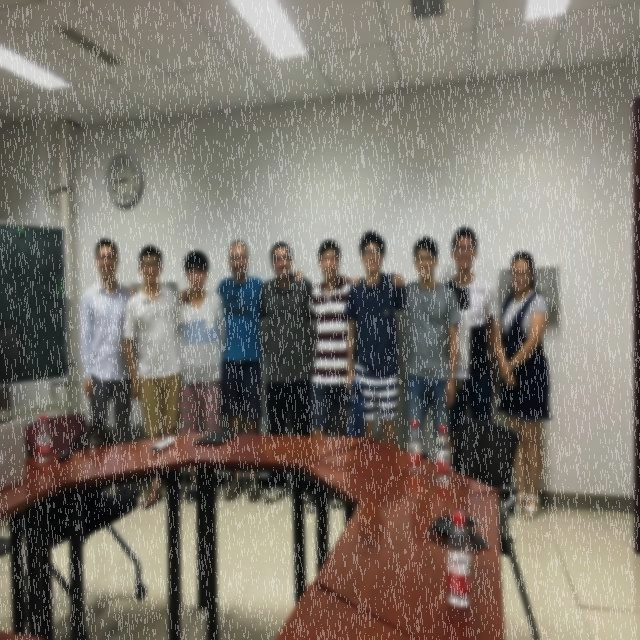pessoa: (174, 237, 305, 502), (302, 235, 408, 512), (128, 246, 226, 504), (350, 236, 460, 454), (122, 245, 185, 510), (80, 235, 142, 500), (494, 248, 552, 520), (257, 240, 315, 509), (343, 229, 407, 452), (442, 224, 498, 476)
